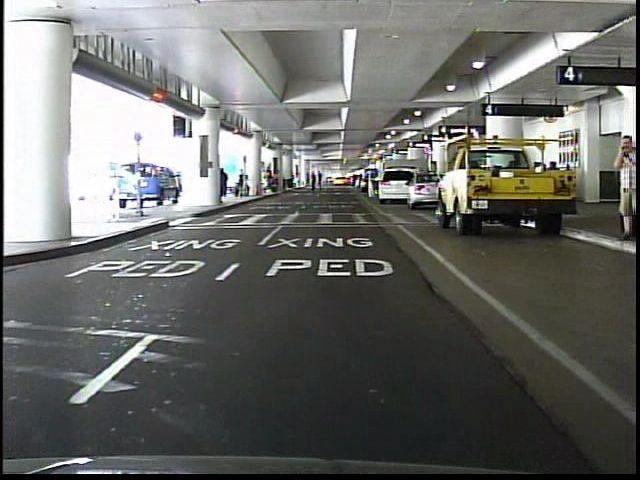person: (612, 133, 636, 240)
